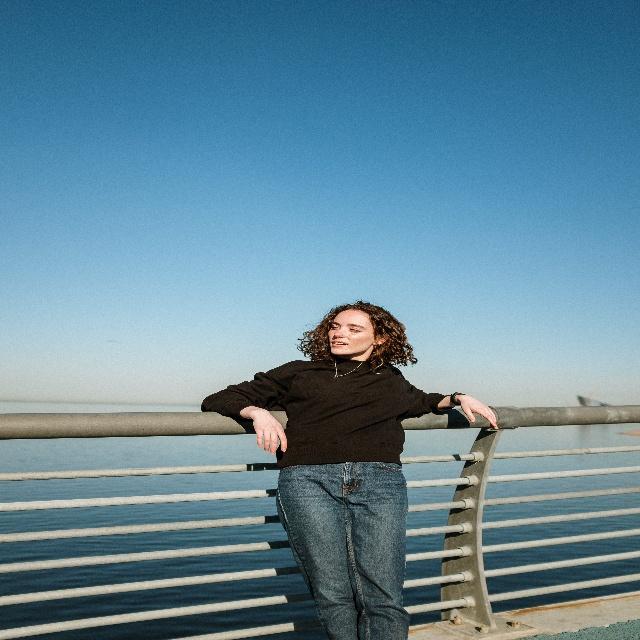Sin_guantes: (252, 407, 287, 454), (460, 394, 498, 430)
